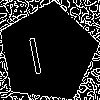I: (23, 28, 46, 75)
